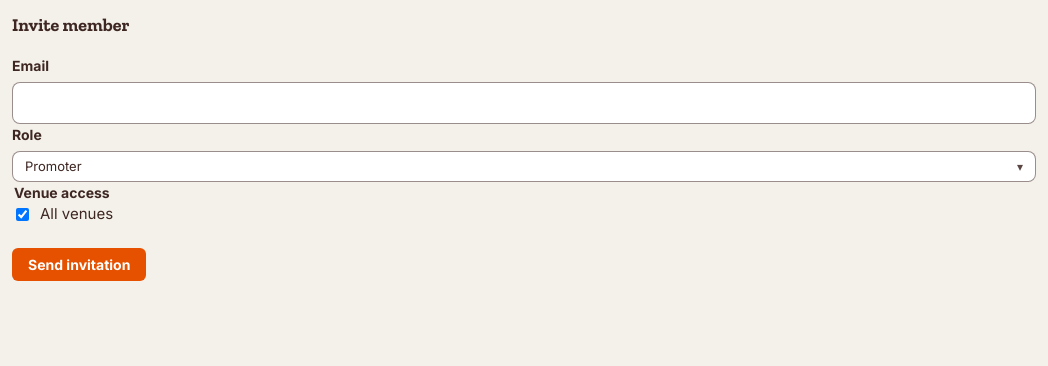
it: InviteMemberForm › shows banner error on server failure distinct from email validation
The image size is (1048, 366).
Type "new@example.com" into the field labelled "Email".
click(524, 103); type("new@example.com")  # box x1=12 y1=82 x2=1036 y2=124
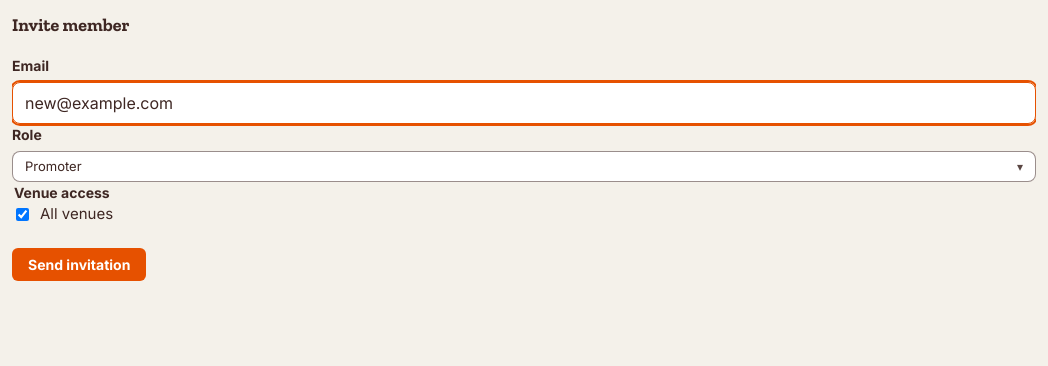
Click the button with test id "invite-member-submit".
click(79, 264)  # box x1=12 y1=248 x2=146 y2=280
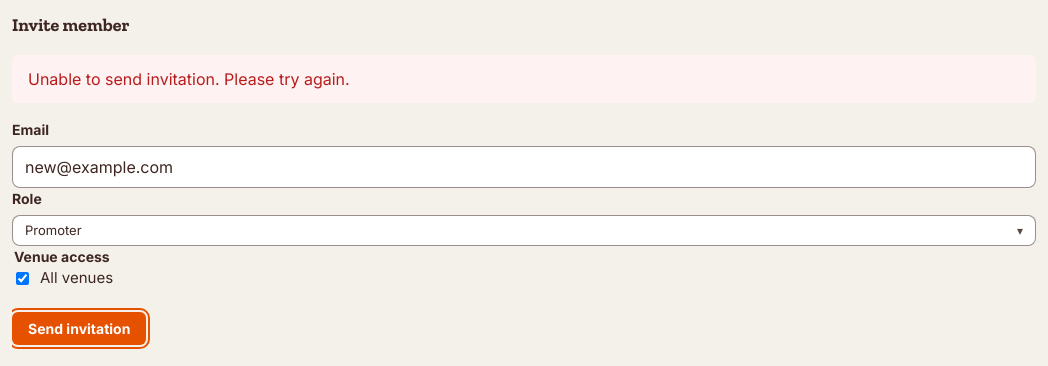
Now the message shows "Unable to send invitation", box x1=28 y1=69 x2=350 y2=89
